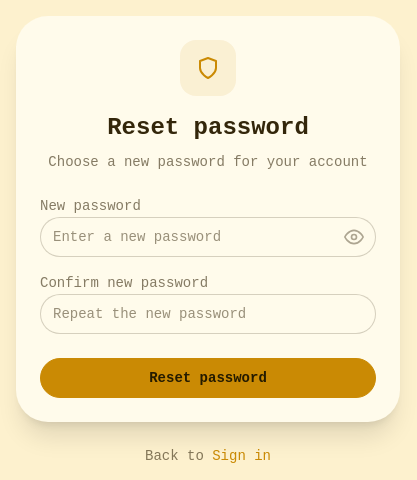
Test: ResetPasswordPage › shows a success message when submitting valid fields
The image size is (417, 480).
Type "secret" into the password field labelled "New password".
click(208, 237); type("secret")  # box [40,217,376,257]
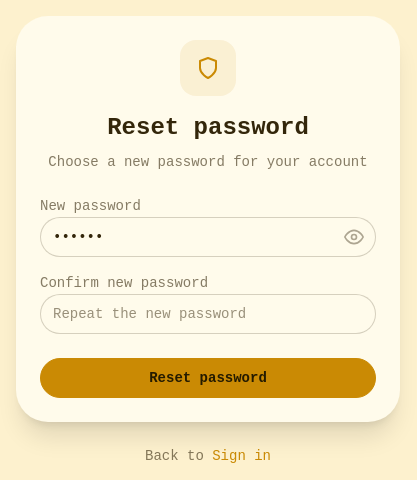
Type "secret" into the password field labelled "Confirm new password".
click(208, 314); type("secret")  # box [40,294,376,334]
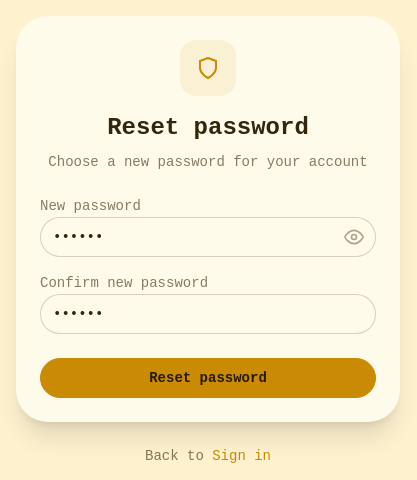
Click the button "Reset password".
click(208, 378)  # box [40,358,376,398]
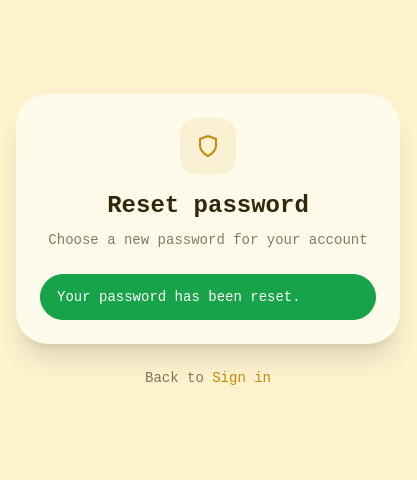
expect the text "Your password has been reset." is shown: met, box [40,274,376,320]
